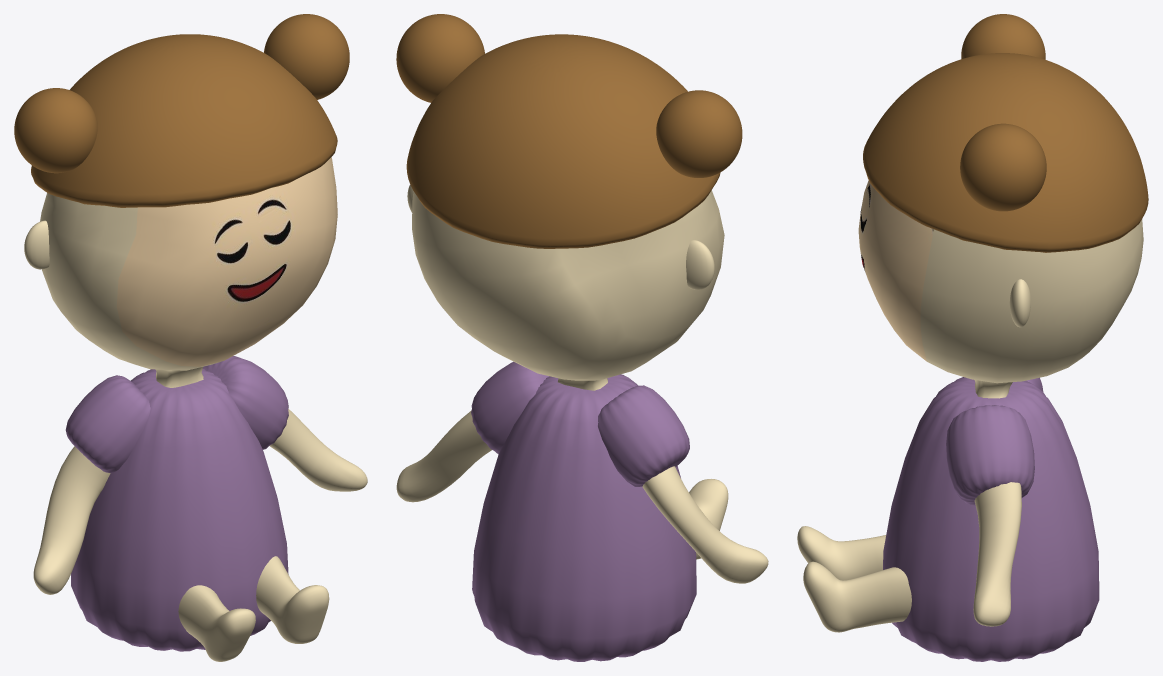
The model's file is Kid_textured.fbx.
3 renders of one model, left to right at view 1: azimuth 30°, elevation 25°; view 2: azimuth 150°, elevation 25°; view 3: azimuth 270°, elevation 25°, orthographic. The views are drawn at different scales.
Visible parts, largest first — view 1: polySurface5, pCylinder5, pSphere8, pSphere9, pCylinder6, pasted__pSphere7, pCylinder7, pSphere10; view 2: pSphere8, polySurface5, pCylinder5, pCylinder6, pSphere9, pasted__pSphere7, pCylinder7, pSphere10; view 3: polySurface5, pSphere8, pCylinder5, pCylinder7, pasted__pSphere7, pSphere9, pasted__pSphere8.
Part boxes in pixels (left/top/right/bottom): polySurface5: left=33, top=157, right=367, bottom=661; pCylinder5: left=71, top=369, right=288, bottom=651; pSphere8: left=31, top=34, right=337, bottom=207; pSphere9: left=14, top=88, right=97, bottom=173; pCylinder6: left=65, top=375, right=150, bottom=473; pasted__pSphere7: left=264, top=14, right=349, bottom=99; pCylinder7: left=202, top=356, right=288, bottom=449; pSphere10: left=24, top=220, right=49, bottom=269; pSphere8: left=406, top=34, right=720, bottom=248; polySurface5: left=396, top=190, right=768, bottom=583; pCylinder5: left=472, top=374, right=696, bottom=661; pCylinder6: left=598, top=385, right=689, bottom=486; pSphere9: left=656, top=90, right=742, bottom=177; pasted__pSphere7: left=396, top=14, right=484, bottom=102; pCylinder7: left=471, top=361, right=548, bottom=454; pSphere10: left=686, top=240, right=714, bottom=289; polySurface5: left=797, top=180, right=1143, bottom=632; pSphere8: left=863, top=53, right=1148, bottom=252; pCylinder5: left=883, top=377, right=1099, bottom=661; pCylinder7: left=946, top=405, right=1034, bottom=505; pasted__pSphere7: left=960, top=123, right=1046, bottom=211; pSphere9: left=961, top=14, right=1045, bottom=59; pasted__pSphere8: left=1009, top=279, right=1030, bottom=327.
Bounding box in the file's own units: 10.2 × 16.07 × 8.99.
Materials: 4 (1 with a texture image).
